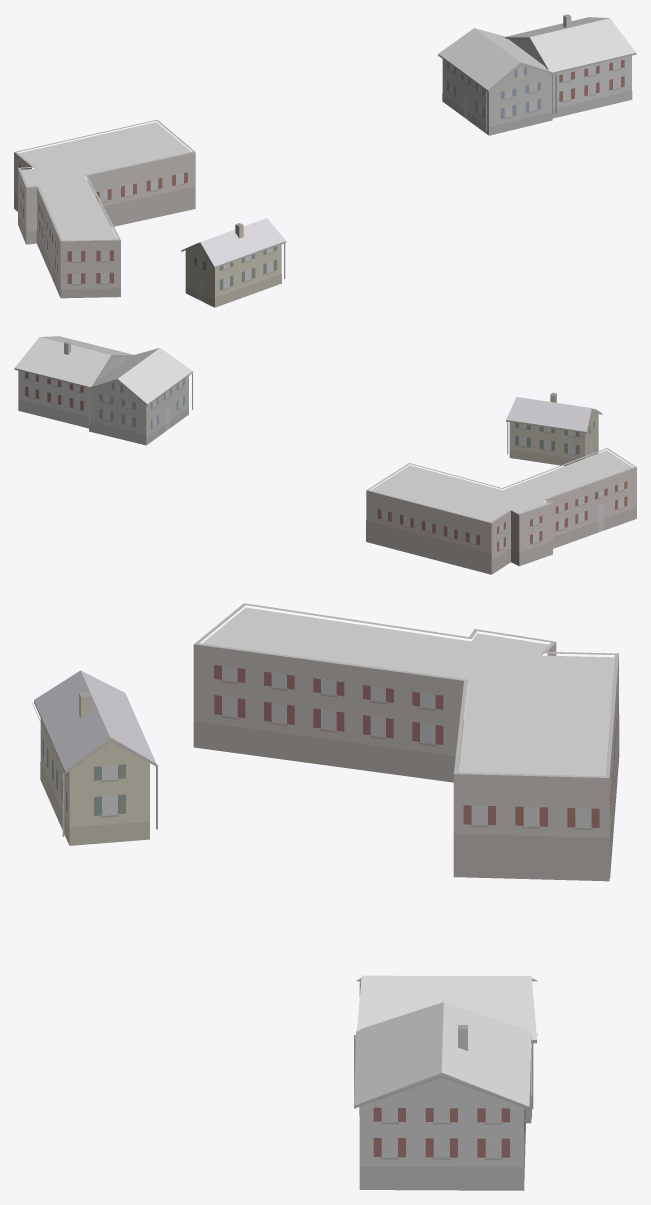
3 views of the same model, one above another, from view 1: azimuth 30°, elevation 25°; view 2: azimuth 150°, elevation 25°; view 3: azimuth 270°, elevation 25° (orthographic). The views are drawn at different scales.
Parts seen in each view (by area): view 1: bld; view 2: bld; view 3: bld.
Part boxes in pixels (x1,y1,x2,y2): bld: (14, 14, 636, 307); bld: (14, 336, 636, 574); bld: (32, 603, 619, 1190).
Size of the model in its own units: 78.36 by 12.32 by 36.18.
